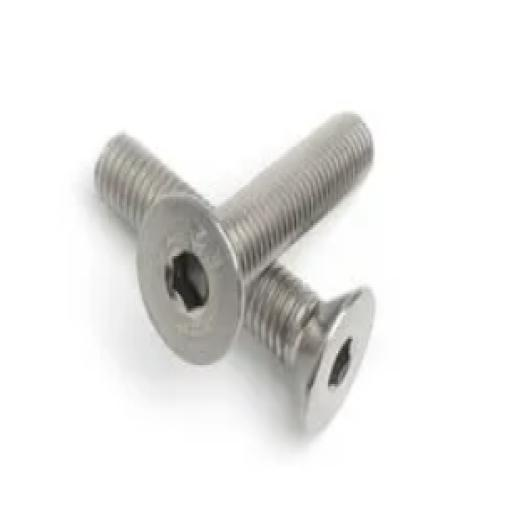Hex-Allen: (137, 191, 244, 373)
